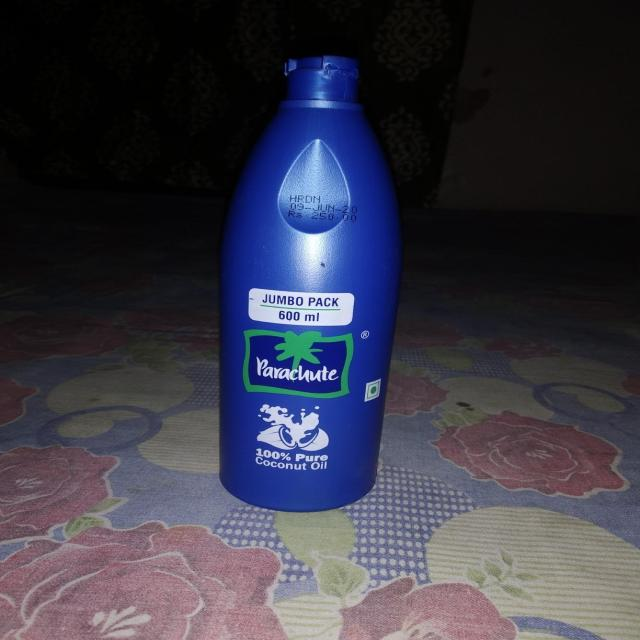parachute_oil: (199, 44, 397, 525)
